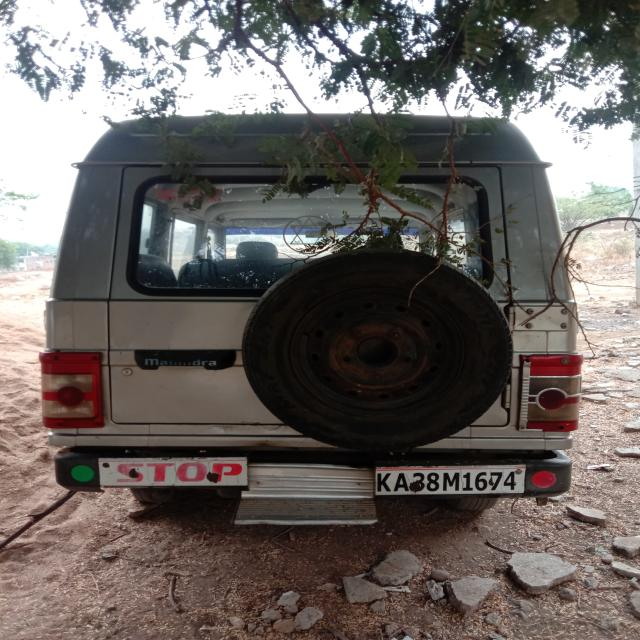number_plate: (372, 462, 529, 498)
